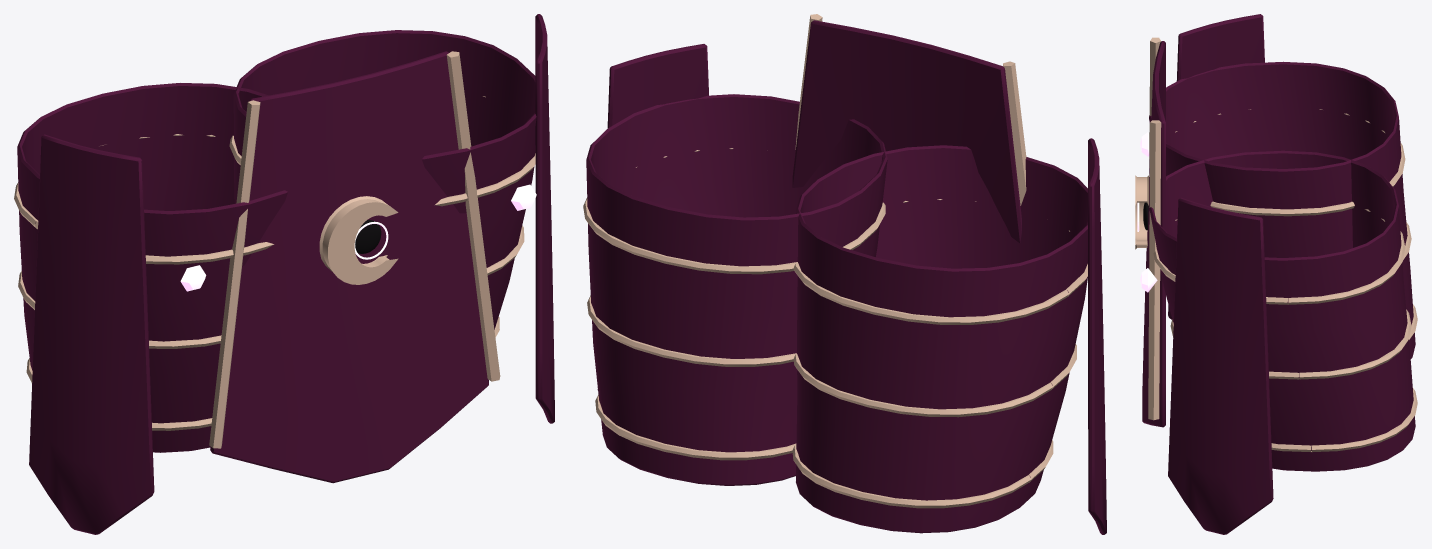
File: asc_undying_seer_leggings.glb
The picture shows the model from 3 angles, left to right: view 1: azimuth 30°, elevation 25°; view 2: azimuth 150°, elevation 25°; view 3: azimuth 270°, elevation 25°; orthographic projection. The views are drawn at different scales.
Parts seen in each view (by area): view 1: asc_undying_seer_leggings, AT_thigh_R, AT_thigh_L; view 2: AT_thigh_R, AT_thigh_L, asc_undying_seer_leggings; view 3: AT_thigh_L, AT_thigh_R, asc_undying_seer_leggings.
Boxes of the visible parts, x1=… form: asc_undying_seer_leggings: x1=209, y1=51, x2=500, y2=483; AT_thigh_R: x1=14, y1=83, x2=287, y2=534; AT_thigh_L: x1=229, y1=14, x2=554, y2=423; AT_thigh_R: x1=792, y1=138, x2=1106, y2=534; AT_thigh_L: x1=583, y1=44, x2=887, y2=485; asc_undying_seer_leggings: x1=792, y1=14, x2=1026, y2=242; AT_thigh_L: x1=1140, y1=150, x2=1417, y2=534; AT_thigh_R: x1=1140, y1=14, x2=1417, y2=358; asc_undying_seer_leggings: x1=1135, y1=37, x2=1165, y2=427.
Bounding box in the file's own units: 0.5162 × 0.4068 × 0.2924.
